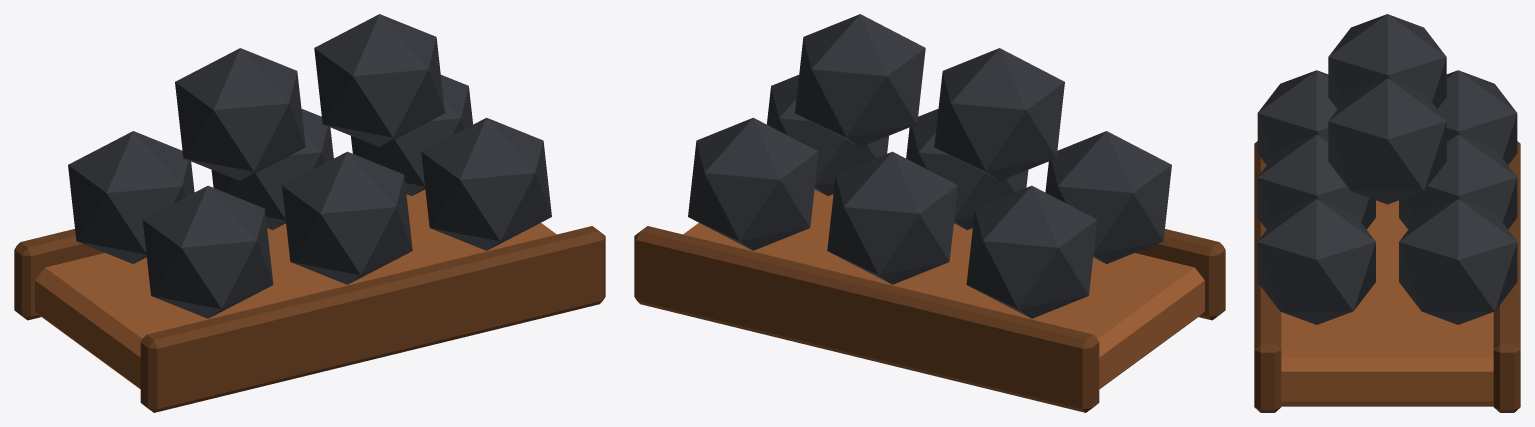
File: CannonKit4.obj
3 views of the same model, side by side, from view 1: azimuth 30°, elevation 25°; view 2: azimuth 150°, elevation 25°; view 3: azimuth 270°, elevation 25° (orthographic). The views are drawn at different scales.
Visible parts, largest first — view 1: CannonKit4; view 2: CannonKit4; view 3: CannonKit4.
Boxes of the visible parts, x1,y1,x2,y2 form: CannonKit4: (14, 14, 605, 412); CannonKit4: (634, 14, 1225, 412); CannonKit4: (1254, 14, 1520, 412).
Bounding box in the file's own units: 0.46 × 0.2676 × 0.245.
